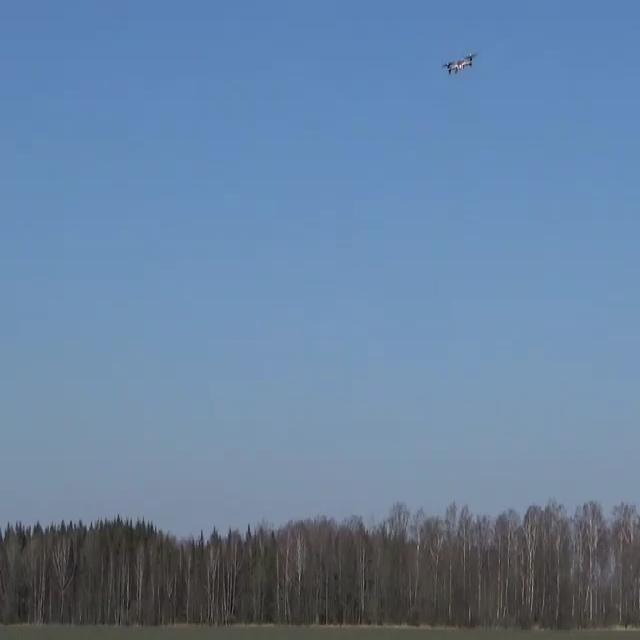Drone: (436, 39, 482, 92)
